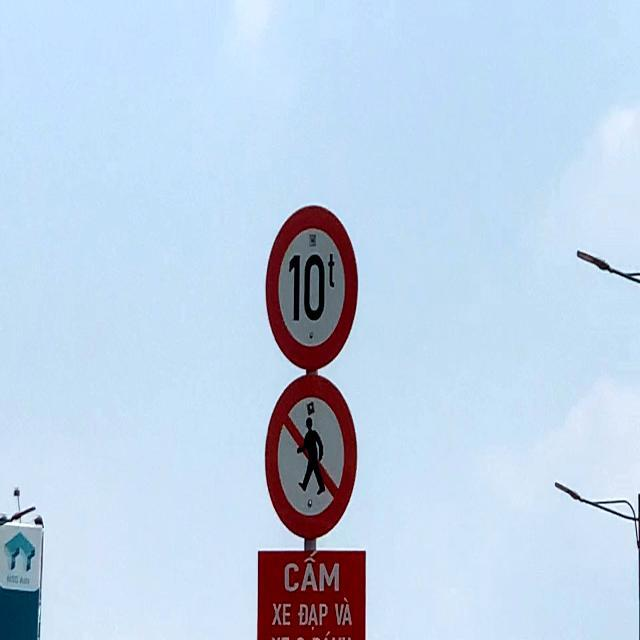P-112: (264, 376, 357, 535)
P-115: (264, 203, 358, 370)
